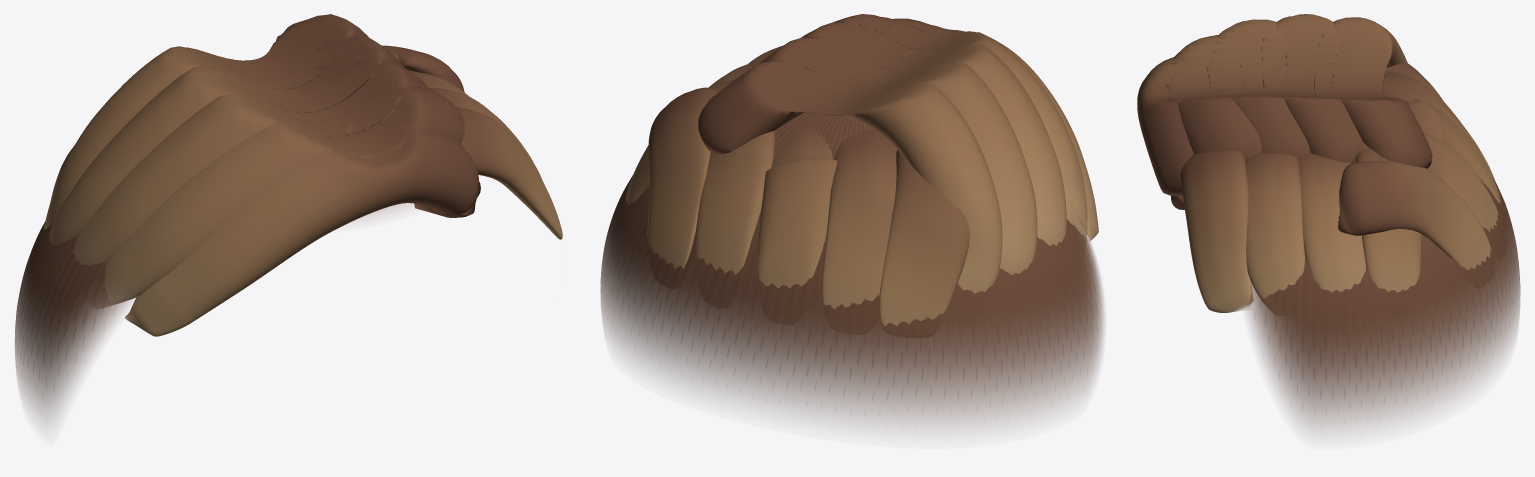
File: Masculine-taper-cowboy257-hair-ombre.glb
The picture shows the model from 3 angles, left to right: view 1: azimuth 30°, elevation 25°; view 2: azimuth 150°, elevation 25°; view 3: azimuth 270°, elevation 25°; orthographic projection. The views are drawn at different scales.
Parts seen in each view (by area): view 1: 226 hair / Hair252 / sculpted locks, 226 hair / Hair252 / gentle tonal variation, 226 hair / Hair257 / smooth side fade, 226 hair / Hair257 / directional fade marks; view 2: 226 hair / Hair252 / sculpted locks, 226 hair / Hair257 / smooth side fade, 226 hair / Hair252 / gentle tonal variation, 226 hair / Hair257 / directional fade marks; view 3: 226 hair / Hair252 / sculpted locks, 226 hair / Hair257 / smooth side fade, 226 hair / Hair252 / gentle tonal variation, 226 hair / Hair257 / directional fade marks.
Boxes of the visible parts, x1,y1,x2,y2 form: 226 hair / Hair252 / sculpted locks: [43, 14, 541, 307]; 226 hair / Hair252 / gentle tonal variation: [125, 107, 562, 336]; 226 hair / Hair257 / smooth side fade: [15, 83, 411, 423]; 226 hair / Hair257 / directional fade marks: [16, 224, 106, 379]; 226 hair / Hair252 / sculpted locks: [625, 14, 1087, 326]; 226 hair / Hair257 / smooth side fade: [600, 78, 1103, 428]; 226 hair / Hair252 / gentle tonal variation: [748, 18, 1098, 308]; 226 hair / Hair257 / directional fade marks: [606, 179, 1096, 398]; 226 hair / Hair252 / sculpted locks: [1166, 14, 1500, 312]; 226 hair / Hair257 / smooth side fade: [1246, 86, 1520, 430]; 226 hair / Hair252 / gentle tonal variation: [1137, 57, 1494, 312]; 226 hair / Hair257 / directional fade marks: [1260, 178, 1517, 396].
Size of the model in its own units: 0.9723 by 0.648 by 0.7439.
